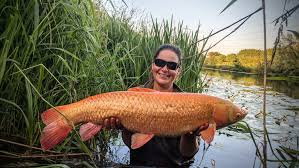carp: (40, 86, 248, 154)
